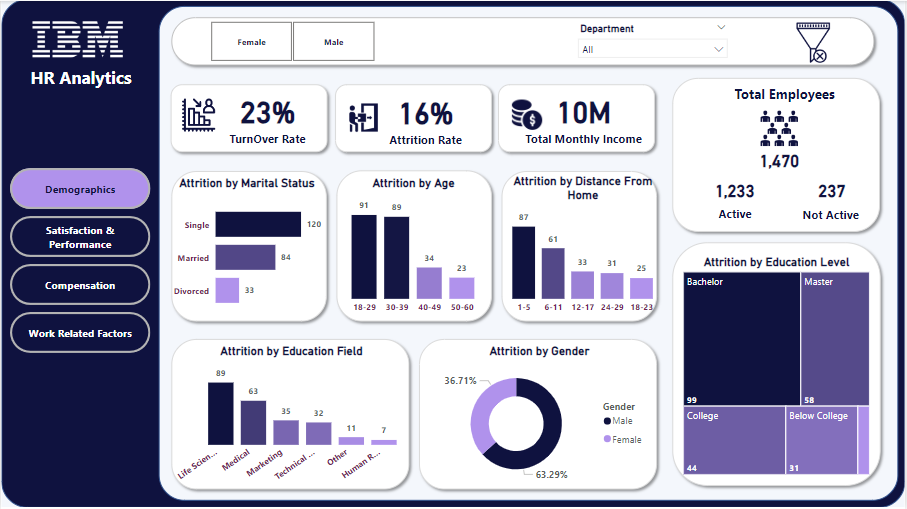

This screenshot's page, from the dashboard's own definition file:
{"tool":"powerbi","page":{"name":"Demographics","canvas":[1280,720],"ordinal":0},"visuals":[{"type":"textbox","box":[36.9,86.5,165.8,42.5],"z":0},{"type":"card","fields":{"Values":["Dax Measures.# Attrited employees"]},"box":[1134.1,247.4,87.2,42.9],"z":0,"group":"g1"},{"type":"card","fields":{"Values":["Dax Measures.TurnOver Rate"]},"box":[296.1,120.1,163,87.2],"z":1000},{"type":"card","fields":{"Values":["Dax Measures.# Current employees"]},"box":[1002.5,240.3,75.8,57.2],"z":1000,"group":"g1"},{"type":"card","fields":{"Values":["Dax Measures.Total Employees"]},"box":[1059.7,200.2,88.7,52.9],"z":2000,"group":"g1"},{"type":"card","fields":{"Values":["Dax Measures.Attrtion Rate"]},"box":[512.1,121.6,180.2,87.2],"z":2000},{"type":"textbox","box":[1035.7,113.6,181.4,55.3],"z":3000,"group":"g1"},{"type":"card","fields":{"Values":["Dax Measures.Total Monthly Income"]},"box":[735.3,120.1,180.2,87.2],"z":3000},{"type":"slicer","fields":{"Values":["DIM_Gender.Gender"]},"box":[272.1,22.7,280.6,69.4],"z":4000},{"type":"image","box":[1062.6,148.8,82.9,62.9],"z":4000,"group":"g1"},{"type":"slicer","fields":{"Values":["DIM_Department.Department"]},"box":[807.9,25.5,232.4,60.9],"z":5000},{"type":"textbox","box":[1012.5,284.6,75.8,40],"z":5000,"group":"g1"},{"type":"image","box":[1109.1,25.6,82,66.6],"z":6000},{"type":"textbox","box":[1131.2,286.1,148.7,40],"z":6000,"group":"g1"},{"type":"group","id":"g1","title":"Group 1","box":[1002.5,113.6,277.5,212.5],"z":7000},{"type":"image","box":[454.9,130.1,117.3,70.1],"z":8000},{"type":"image","box":[228.9,133,100.1,57.2],"z":9000},{"type":"image","box":[709.5,134.4,70.1,52.9],"z":10000},{"type":"donutChart","title":"Attrition by Gender","fields":{"Category":["DIM_Gender.Gender"],"Y":["Dax Measures.# Attrited employees"]},"box":[602.4,486.1,321.7,206.9],"z":11000},{"type":"columnChart","title":"Attrition by Education Field","fields":{"Category":["DIM_EducationField.EducationField"],"Y":["Dax Measures.# Attrited employees"]},"box":[238.1,486.1,347.2,206.9],"z":12000},{"type":"treemap","title":"Attrition by Education Level","fields":{"Group":["DIM_EducationLevel.EducationLevel"],"Values":["Dax Measures.# Attrited employees"]},"box":[962.4,360,273.5,316.1],"z":13000},{"type":"columnChart","title":"Attrition by Distance From Home","fields":{"Category":["Fact_Employees.DistanceGroup"],"Y":["Dax Measures.# Attrited employees"]},"box":[703,245.2,243.8,206.9],"z":14000},{"type":"pageNavigator","box":[12.8,226.8,199.8,284.9],"z":15000},{"type":"barChart","title":"Attrition by Marital Status","fields":{"Y":["Dax Measures.# Attrited employees"],"Category":["DIM_MaritalStatus.MaritalStatus"]},"box":[238.1,248,221.1,205.5],"z":16000},{"type":"columnChart","title":"Attrition by Age","fields":{"Category":["Fact_Employees.Age Group"],"Y":["Dax Measures.# Attrited employees"]},"box":[473.4,248,222.5,204.1],"z":17000}]}

Visuals, with their boxes in screenshot pixels (x1, y1, x2, y2), scaled from the page's 1280x720 canvas onto the 907x509 screenshot:
textbox: (x1=26, y1=61, x2=144, y2=91)
card - Dax Measures.# Attrited employees: (x1=804, y1=175, x2=865, y2=205)
card - Dax Measures.TurnOver Rate: (x1=210, y1=85, x2=325, y2=147)
card - Dax Measures.# Current employees: (x1=710, y1=170, x2=764, y2=210)
card - Dax Measures.Total Employees: (x1=751, y1=142, x2=814, y2=179)
card - Dax Measures.Attrtion Rate: (x1=363, y1=86, x2=491, y2=148)
textbox: (x1=734, y1=80, x2=862, y2=119)
card - Dax Measures.Total Monthly Income: (x1=521, y1=85, x2=649, y2=147)
slicer - DIM_Gender.Gender: (x1=193, y1=16, x2=392, y2=65)
image: (x1=753, y1=105, x2=812, y2=150)
slicer - DIM_Department.Department: (x1=572, y1=18, x2=737, y2=61)
textbox: (x1=717, y1=201, x2=771, y2=229)
image: (x1=786, y1=18, x2=844, y2=65)
textbox: (x1=802, y1=202, x2=906, y2=231)
"Group 1" group: (x1=710, y1=80, x2=906, y2=231)
image: (x1=322, y1=92, x2=405, y2=142)
image: (x1=162, y1=94, x2=233, y2=134)
image: (x1=503, y1=95, x2=552, y2=132)
"Attrition by Gender" donutChart: (x1=427, y1=344, x2=655, y2=490)
"Attrition by Education Field" columnChart: (x1=169, y1=344, x2=415, y2=490)
"Attrition by Education Level" treemap: (x1=682, y1=255, x2=876, y2=478)
"Attrition by Distance From Home" columnChart: (x1=498, y1=173, x2=671, y2=320)
pageNavigator: (x1=9, y1=160, x2=151, y2=362)
"Attrition by Marital Status" barChart: (x1=169, y1=175, x2=325, y2=321)
"Attrition by Age" columnChart: (x1=335, y1=175, x2=493, y2=320)
